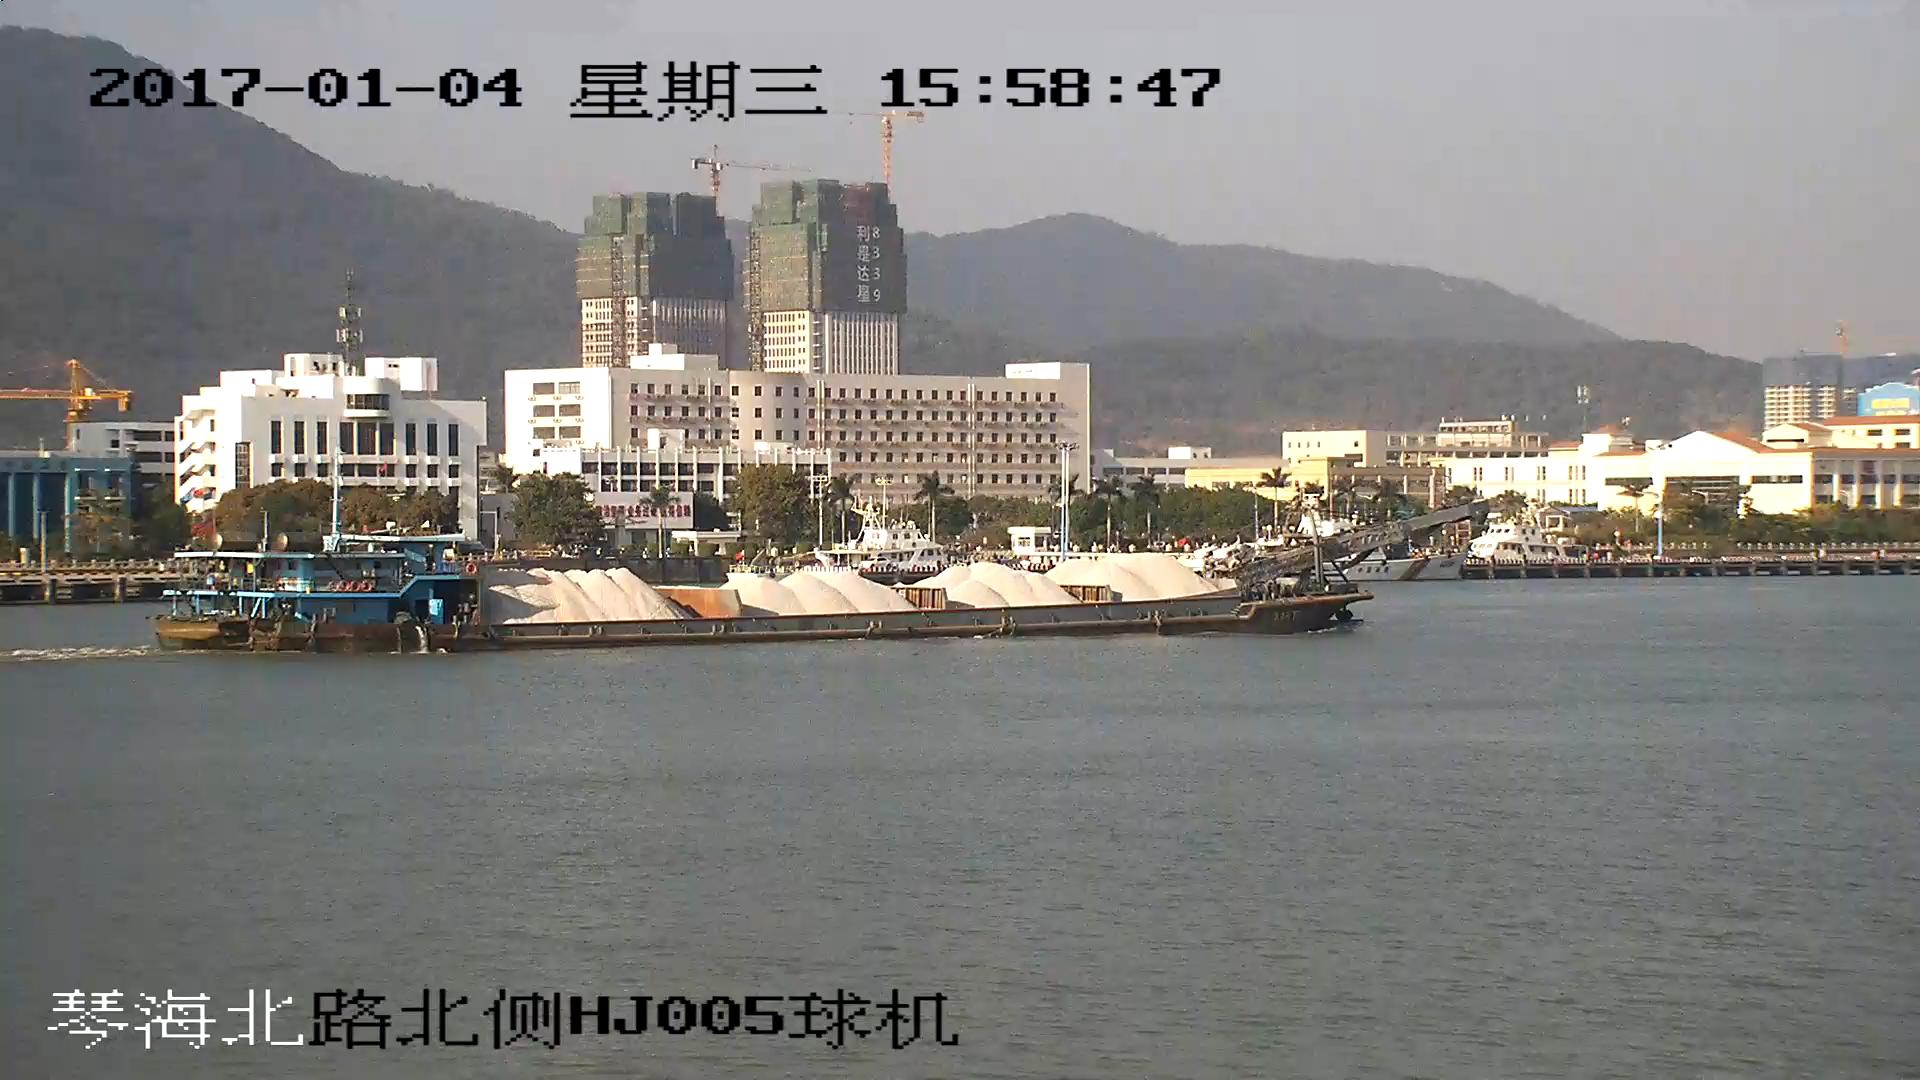ore carrier: (160, 495, 1486, 658)
